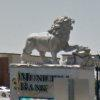Statue: (5, 13, 85, 73)
